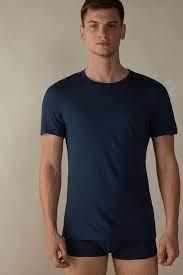Tshirt: (33, 66, 183, 242)
short: (60, 236, 160, 261)
